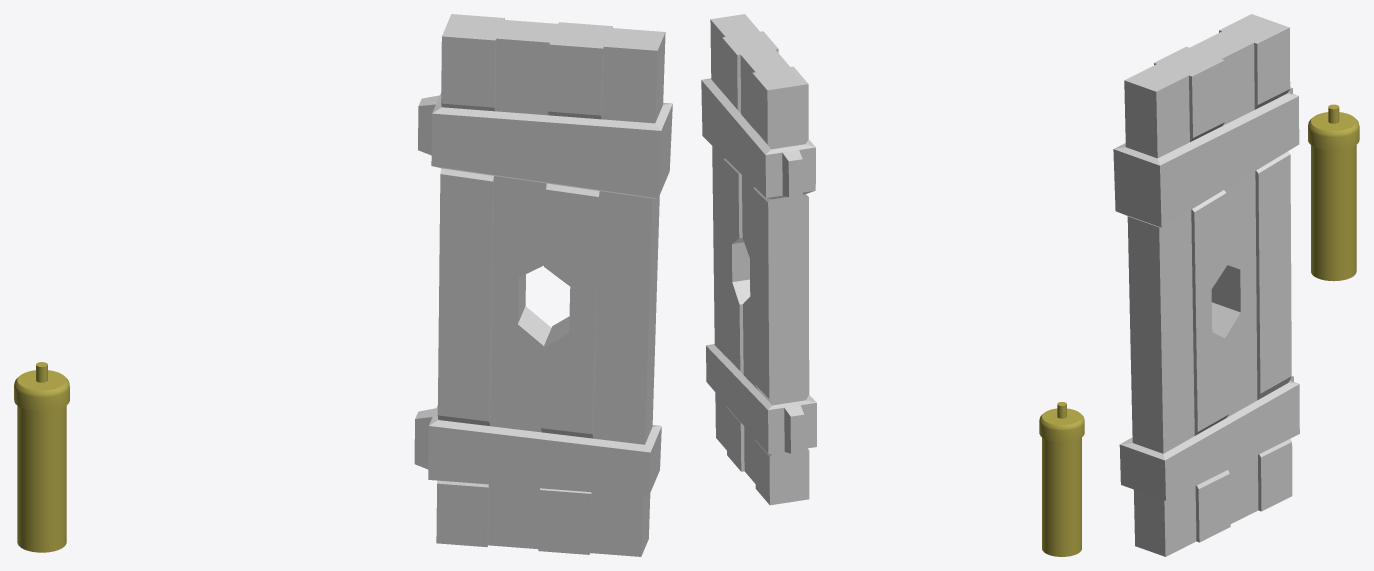
Rendered from CandleAndShutter.fbx.
3 renders of one model, left to right at view 1: azimuth 30°, elevation 25°; view 2: azimuth 150°, elevation 25°; view 3: azimuth 270°, elevation 25°, orthographic. The views are drawn at different scales.
Visible parts, largest first — view 1: Cube.032, Cylinder; view 2: Cube.032, Cylinder; view 3: Cube.032, Cylinder.
Boxes of the visible parts, x1,y1,x2,y2 form: Cube.032: [414, 14, 672, 556]; Cylinder: [14, 362, 69, 552]; Cube.032: [701, 14, 816, 505]; Cylinder: [1039, 402, 1084, 556]; Cube.032: [1113, 14, 1299, 556]; Cylinder: [1308, 104, 1359, 281].
Size of the model in its own units: 499 by 431 by 205.
